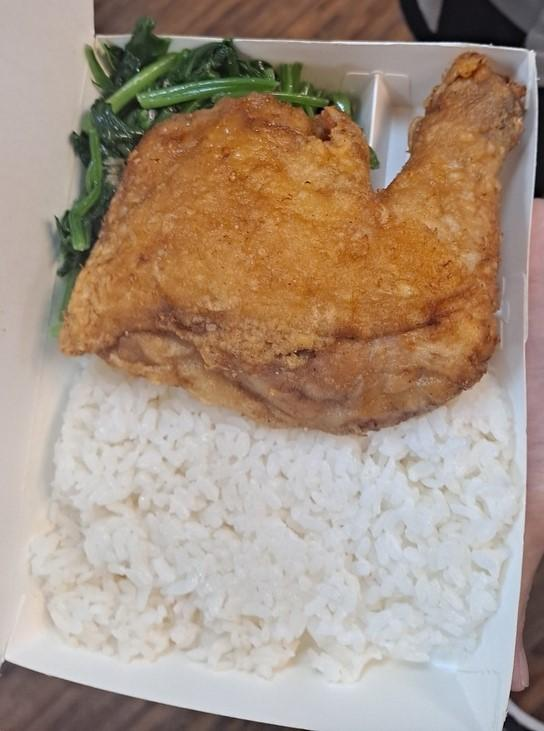big grilled chicken leg: (10, 13, 544, 730)
big herbal chicken leg: (34, 360, 524, 684)
braised fish fillet: (57, 15, 364, 280)
brown rice: (52, 47, 530, 432)
